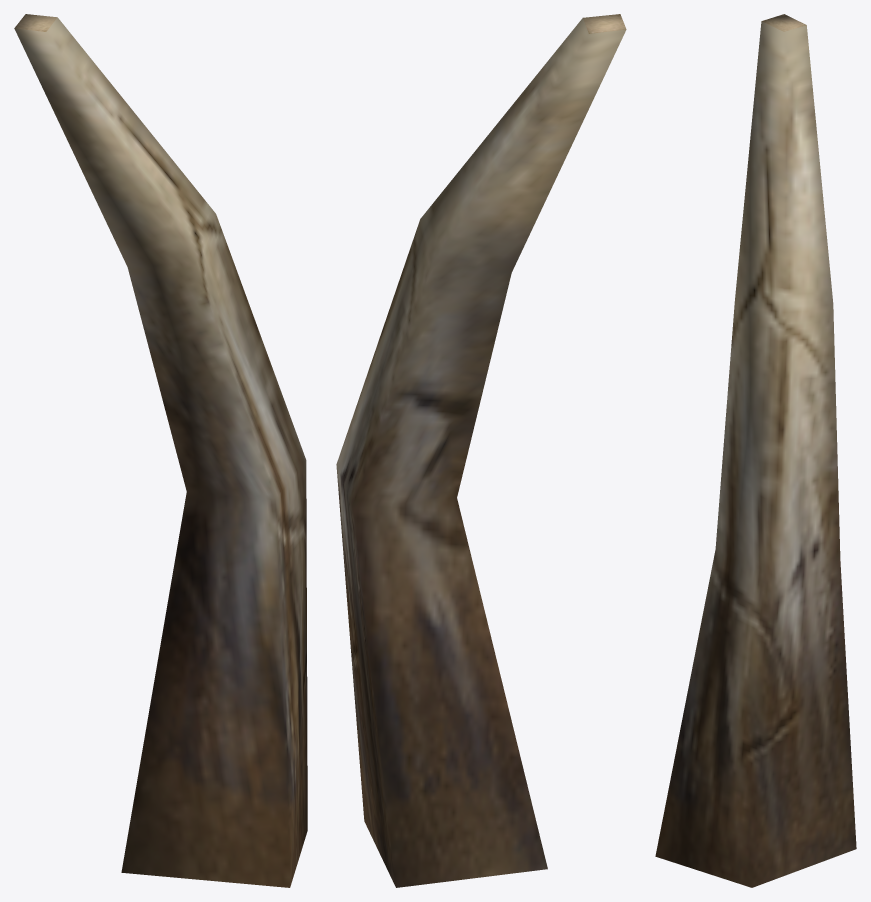
The model's file is D_baigu008.fbx.
The picture shows the model from 3 angles, left to right: view 1: azimuth 30°, elevation 25°; view 2: azimuth 150°, elevation 25°; view 3: azimuth 270°, elevation 25°; orthographic projection. The views are drawn at different scales.
Visible parts, largest first — view 1: D_baigu008; view 2: D_baigu008; view 3: D_baigu008.
Part boxes in pixels (x1,y1,x2,y2): D_baigu008: (14, 14, 307, 887); D_baigu008: (336, 14, 626, 887); D_baigu008: (655, 14, 856, 887).
Bounding box in the file's own units: 83.58 × 238 × 57.26.
